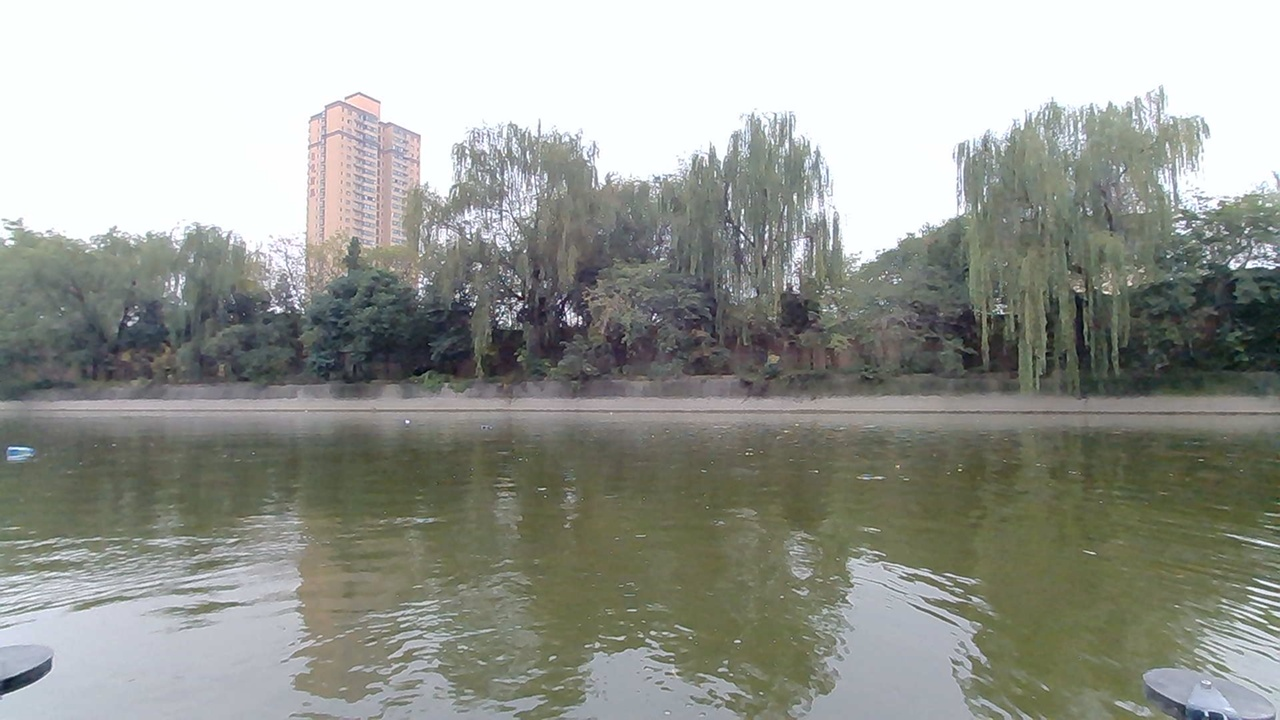bottle: (1, 434, 56, 467)
